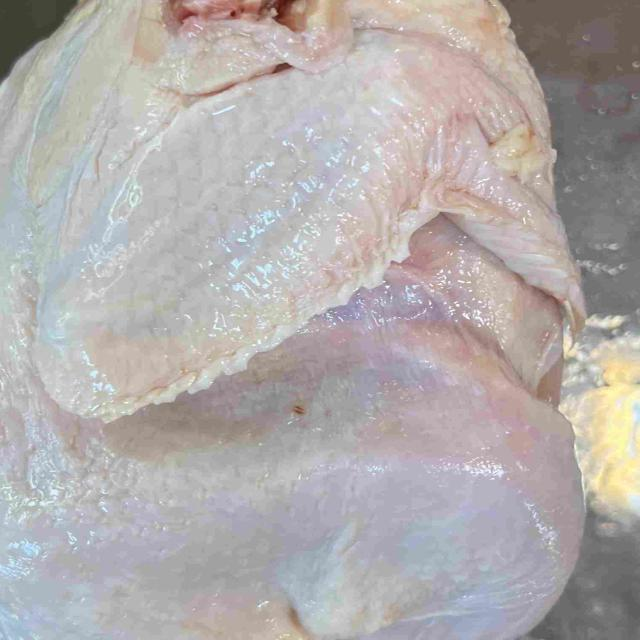leg: (226, 328, 582, 640)
neck: (141, 0, 351, 96)
wing: (33, 28, 582, 413)
